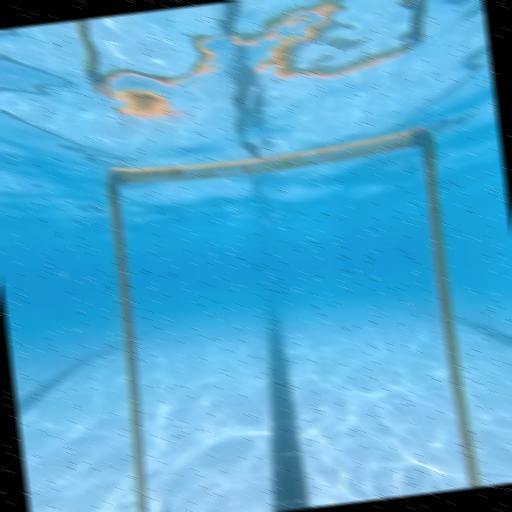gate: (92, 126, 482, 512)
